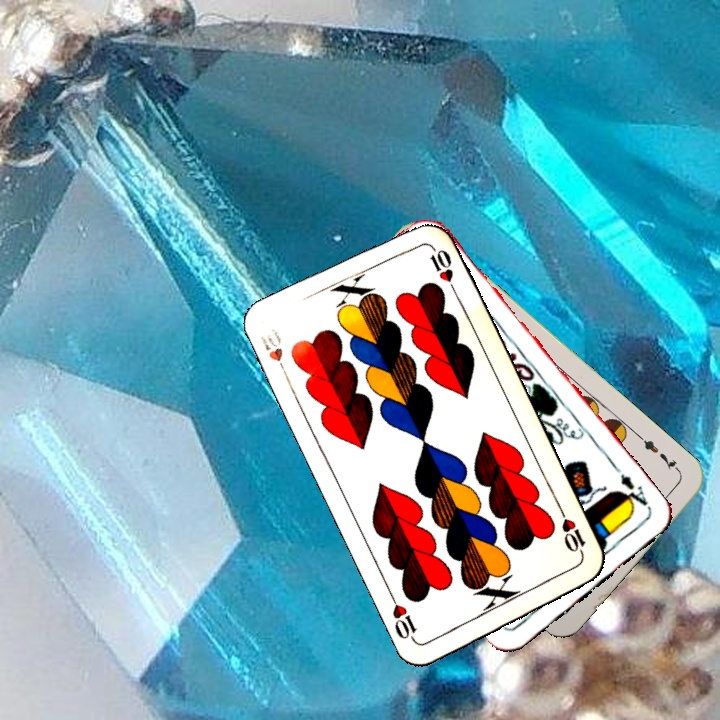E7: (634, 431, 683, 476)
EA: (615, 469, 654, 514)
H10: (255, 324, 291, 381), (556, 505, 588, 561)
